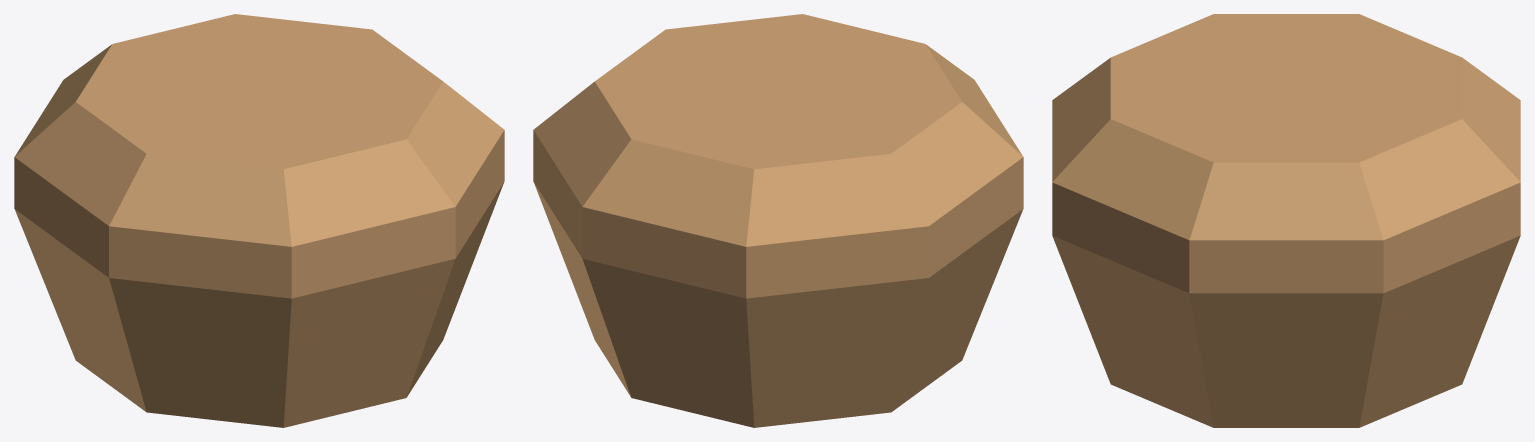
Rendered from Wall_End_Top.fbx.
3 views of the same model, side by side, from view 1: azimuth 30°, elevation 25°; view 2: azimuth 150°, elevation 25°; view 3: azimuth 270°, elevation 25° (orthographic). The views are drawn at different scales.
Parts seen in each view (by area): view 1: object1; view 2: object1; view 3: object1.
Part boxes in pixels (left/top/right/bottom): object1: left=14, top=14, right=504, bottom=427; object1: left=533, top=14, right=1023, bottom=427; object1: left=1052, top=14, right=1520, bottom=427.
Size of the model in its own units: 0.4 by 0.25 by 0.4.
